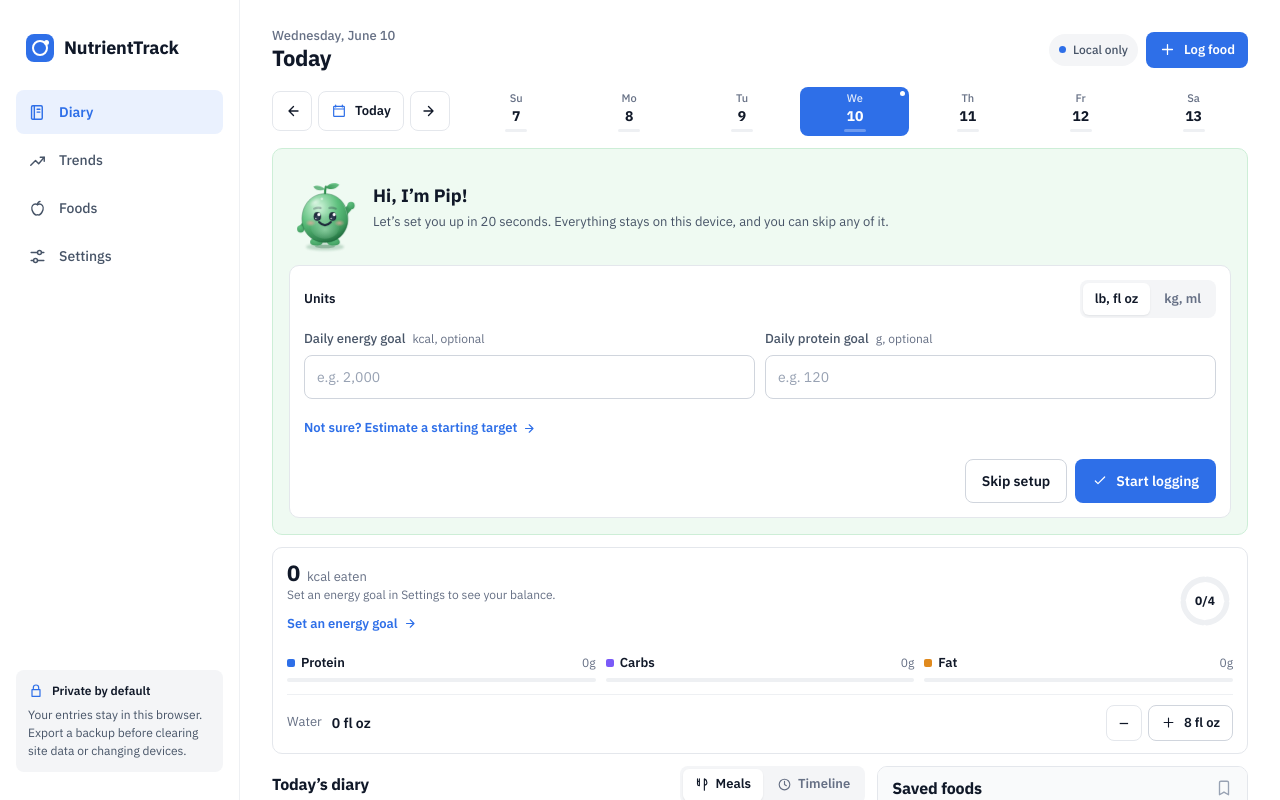
it: Log from outside the Diary uses today › prefills_today_from_the_top_bar_Log_food_in_Foods_after_viewing_a_past_day
Click the button named "Previous day". click: (292, 111)
box: [272,91,312,131]
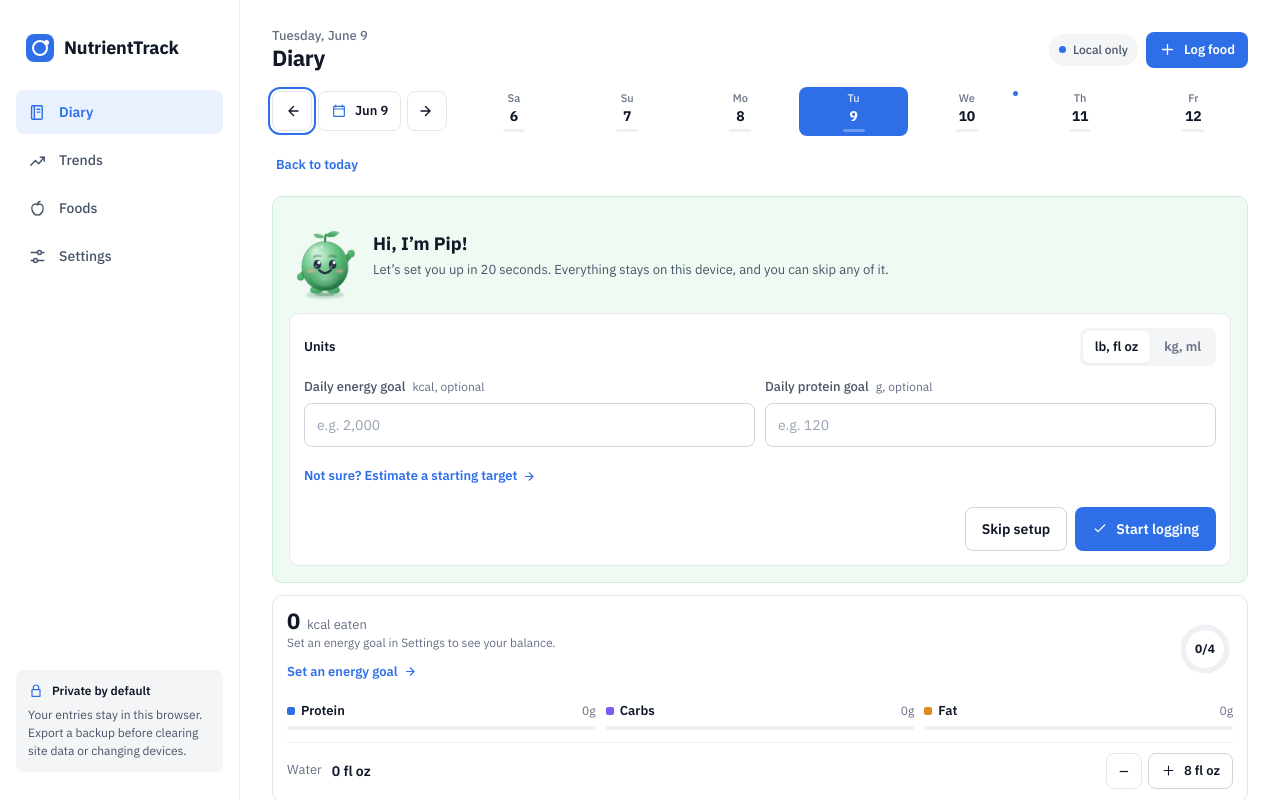
Click the button "Foods". click: (120, 208)
box: [16,186,223,230]
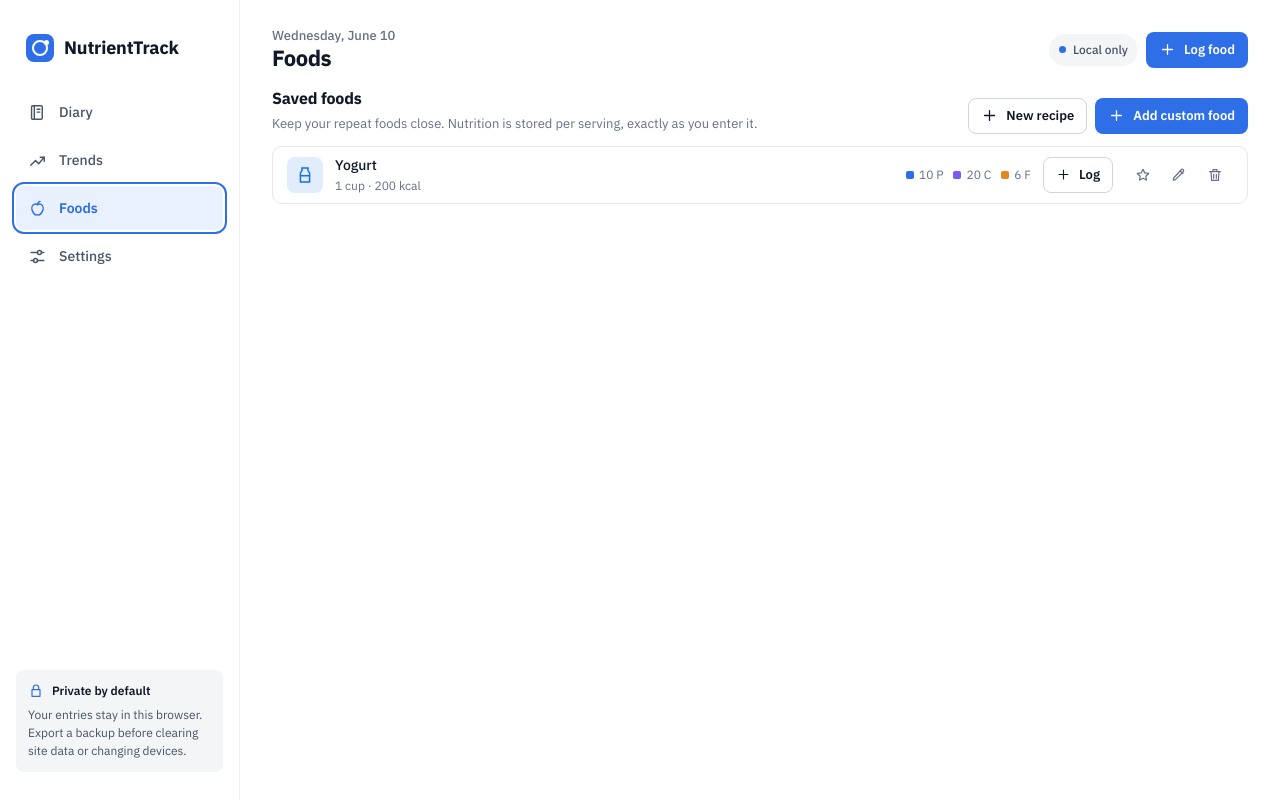
Click the button "Log food". click: (1197, 50)
box: [1146,32,1248,68]
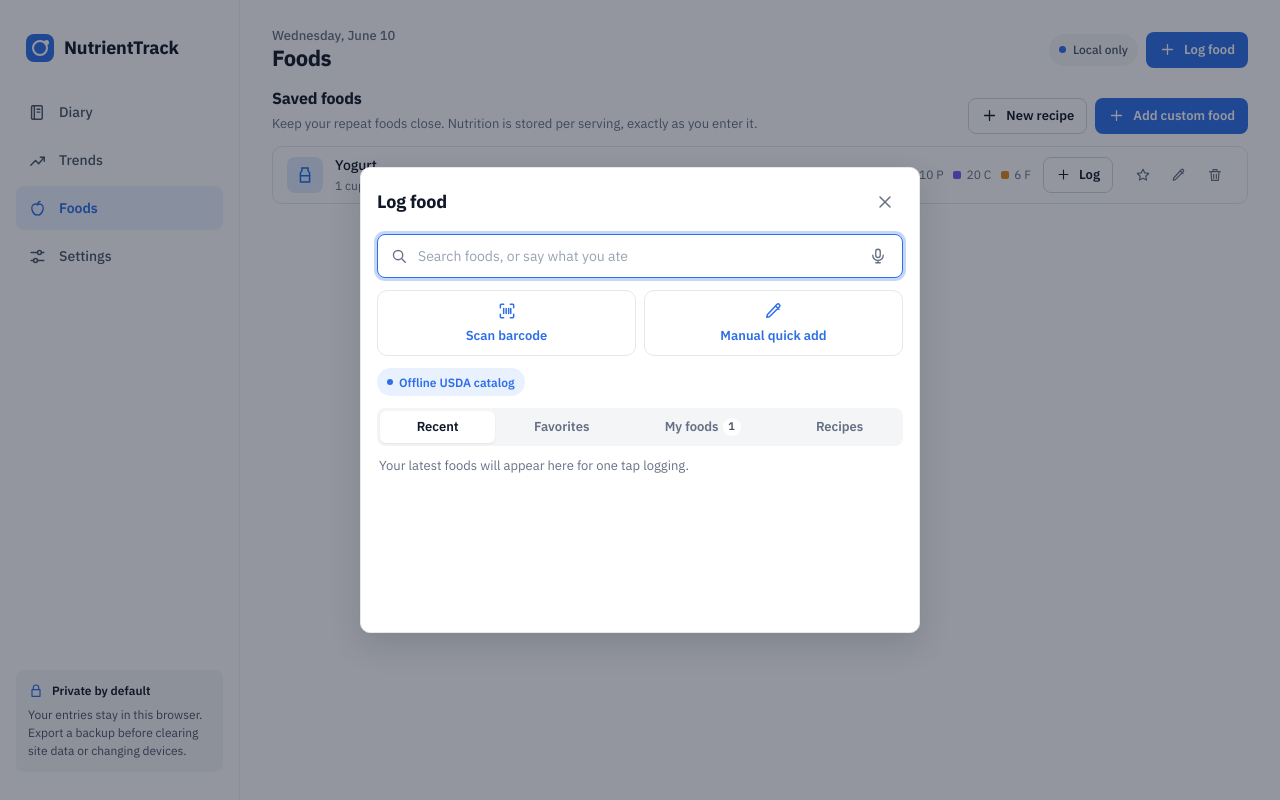
Click the button "Manual quick add". click: (774, 323)
box: [644,290,903,356]
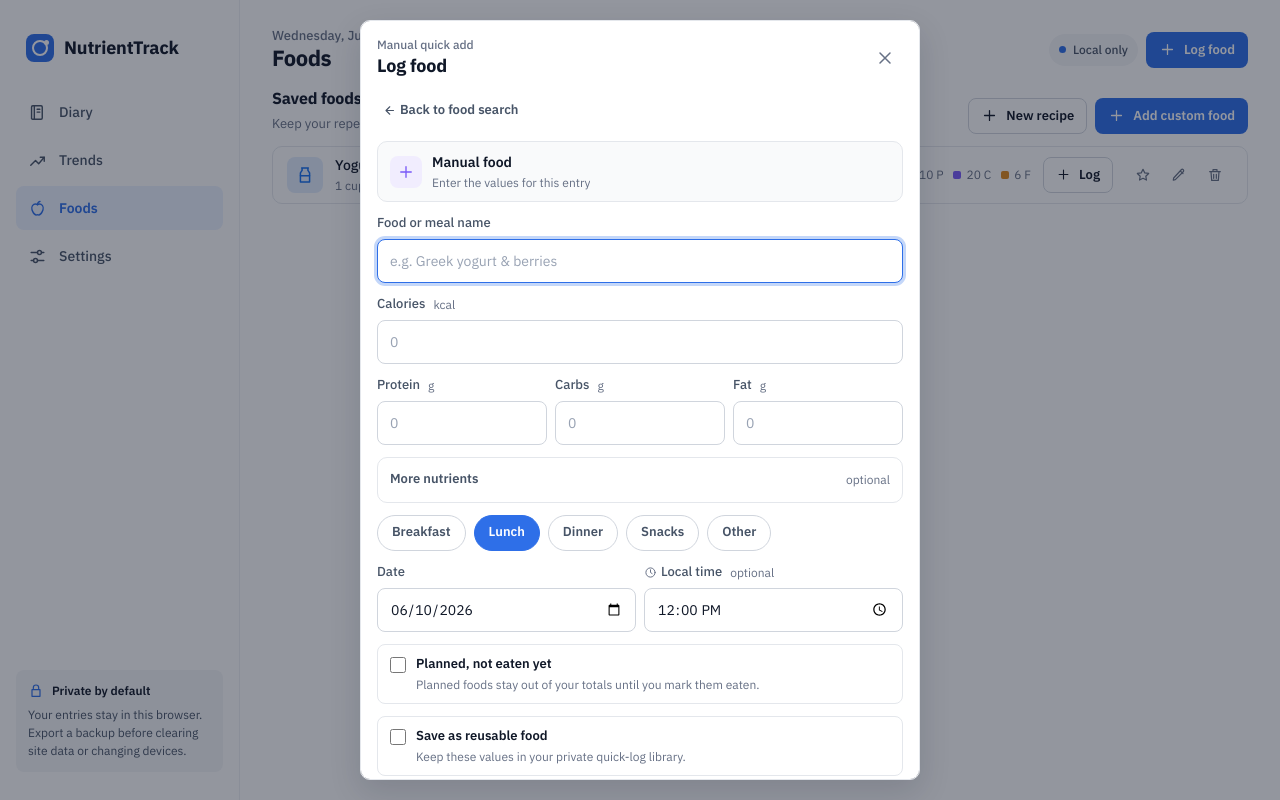
Type "Toast" into the field labelled "Food or meal name". click: (640, 261)
box: [377,239,903,283]
Type "120" into the number field labelled "Calories kcal". click: (640, 342)
box: [377,320,903,364]
(page scrolled)
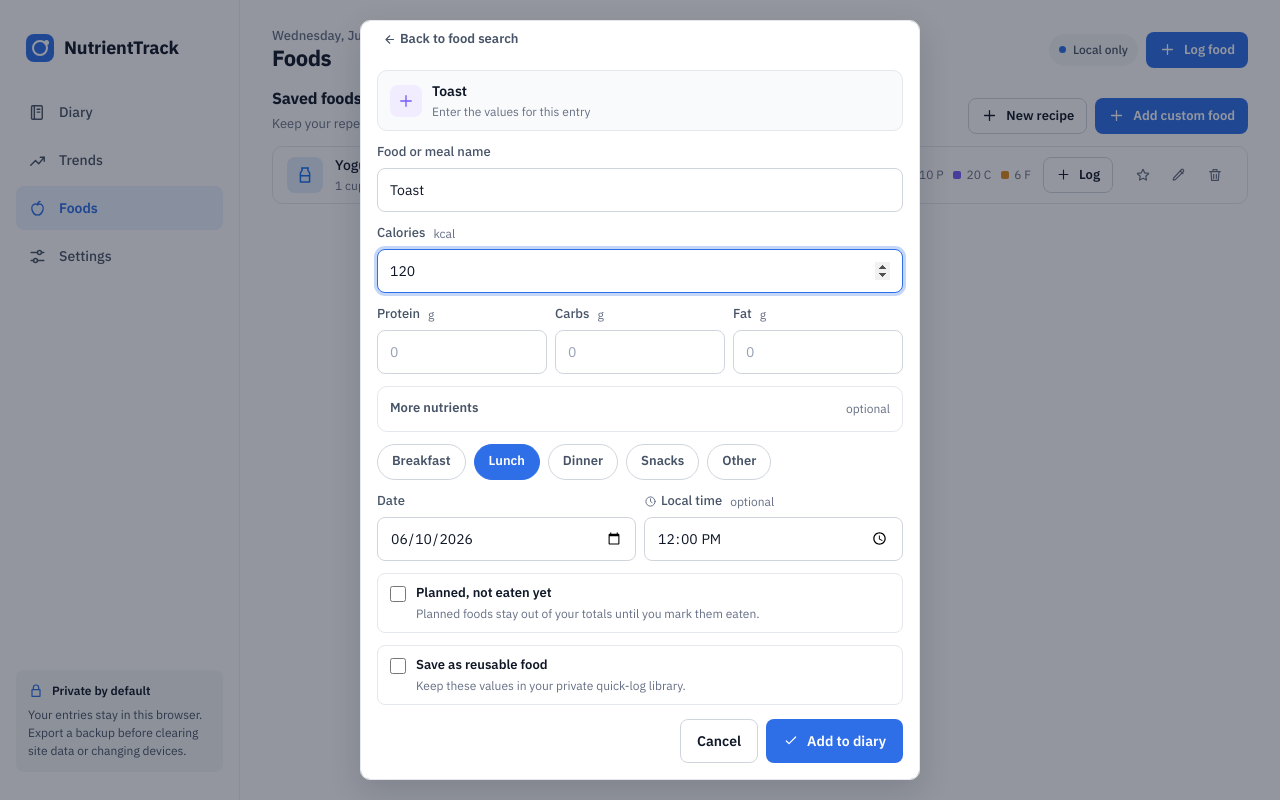
Click the button "Add to diary". click: (835, 741)
box: [766,719,903,763]
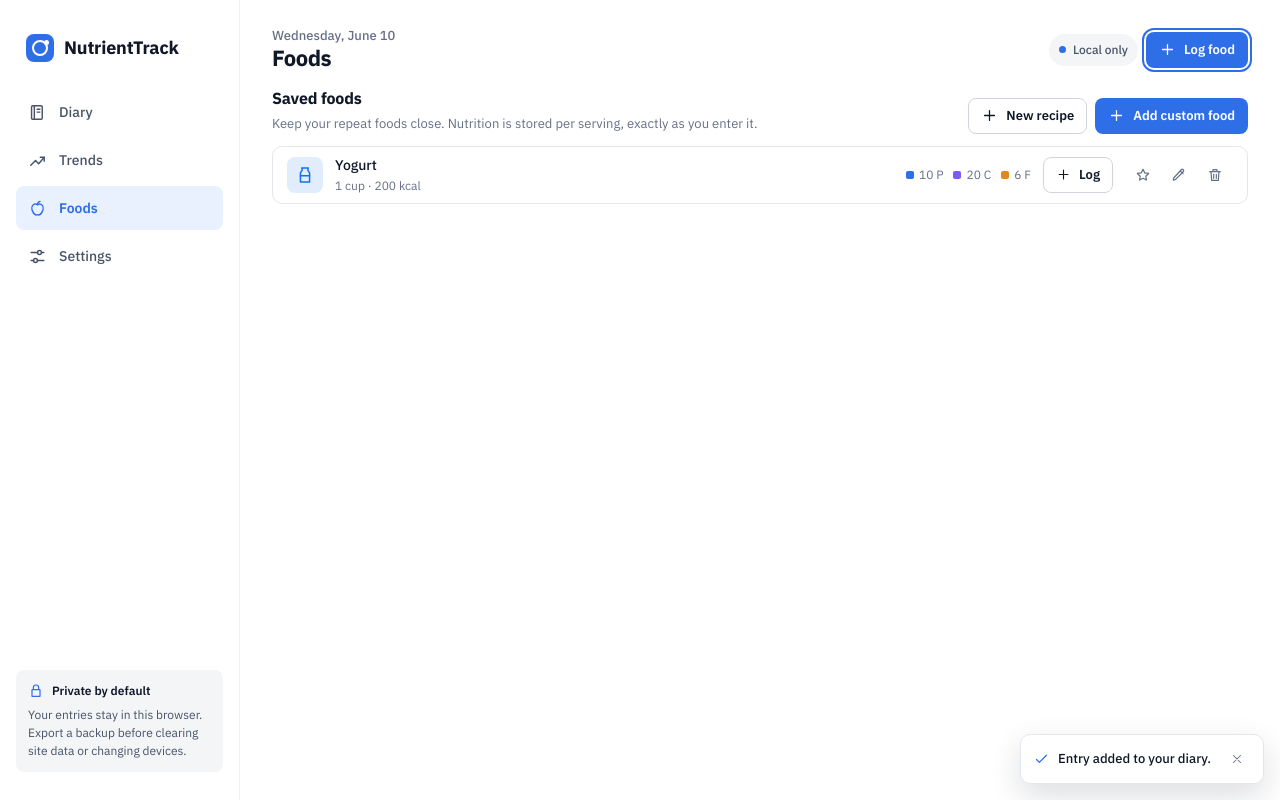
Check: the element with class "toast" reads "Entry added to your diary.", box [1058,750,1211,767]
